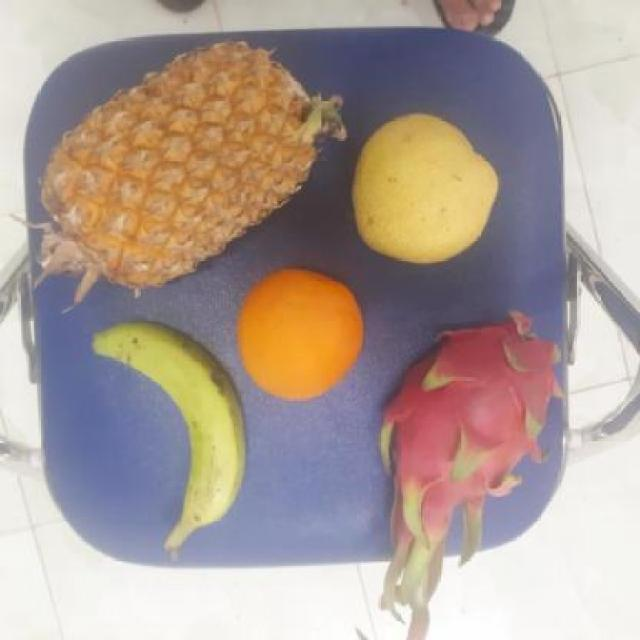banana: (102, 318, 242, 542)
dragon fruit: (370, 314, 572, 548)
oren: (230, 273, 364, 399)
pear: (344, 112, 504, 268)
pineapple: (28, 40, 324, 298)
